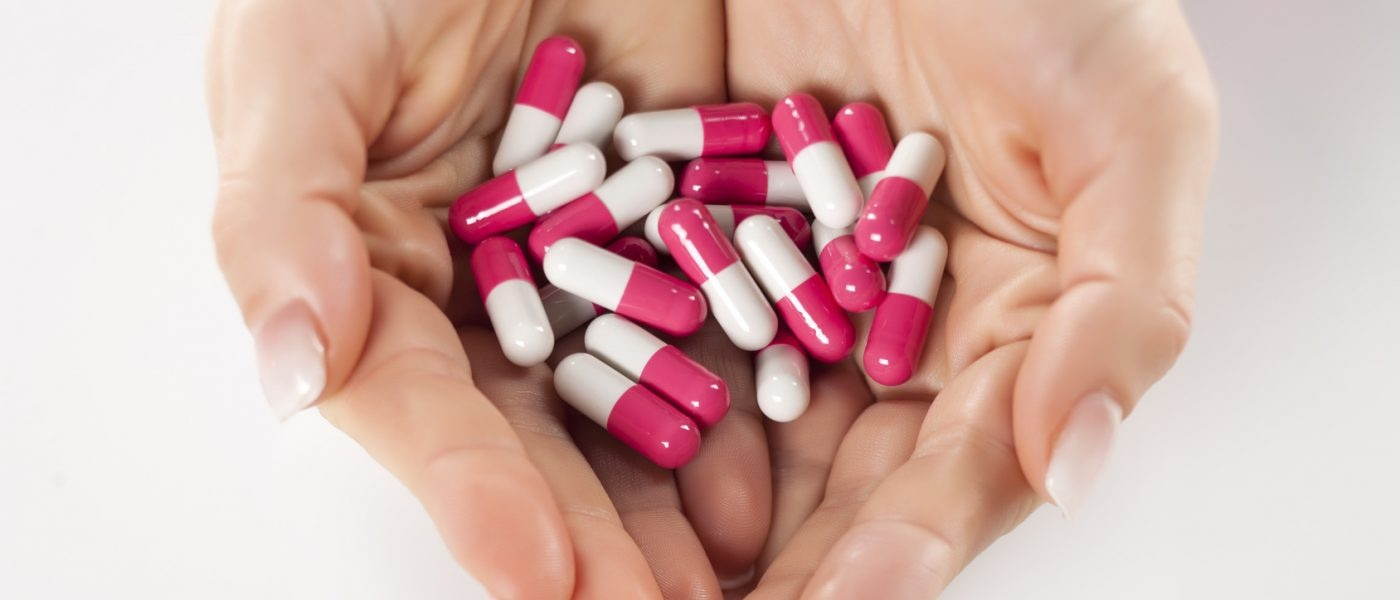pills: (856, 222, 962, 384), (655, 198, 771, 340), (442, 139, 605, 239), (547, 353, 697, 449), (496, 30, 594, 169), (853, 130, 947, 260), (471, 231, 568, 354), (767, 95, 856, 227), (612, 110, 777, 154)
